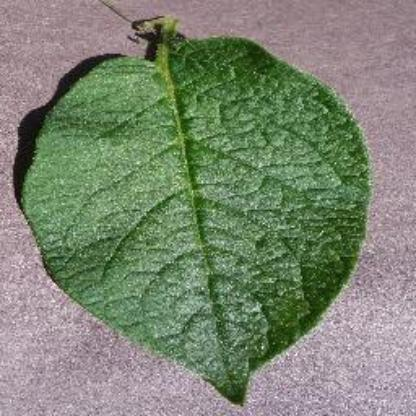Healthy-plant: (21, 17, 371, 407)
